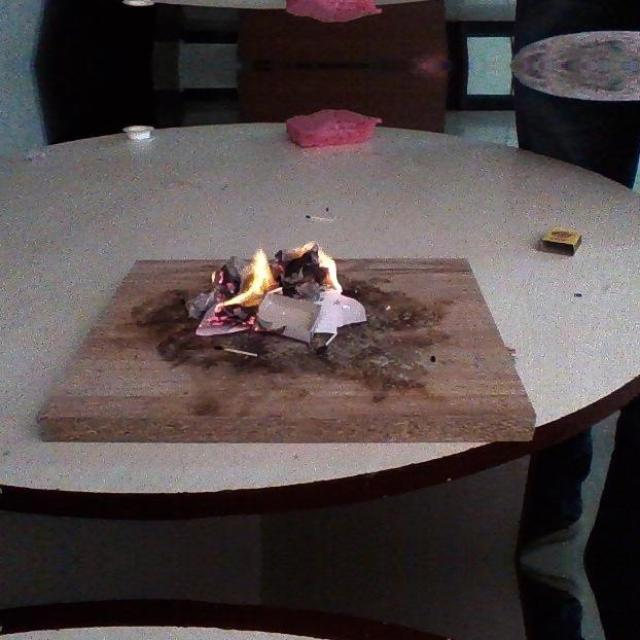smoke: (212, 246, 274, 312), (316, 249, 345, 296)
